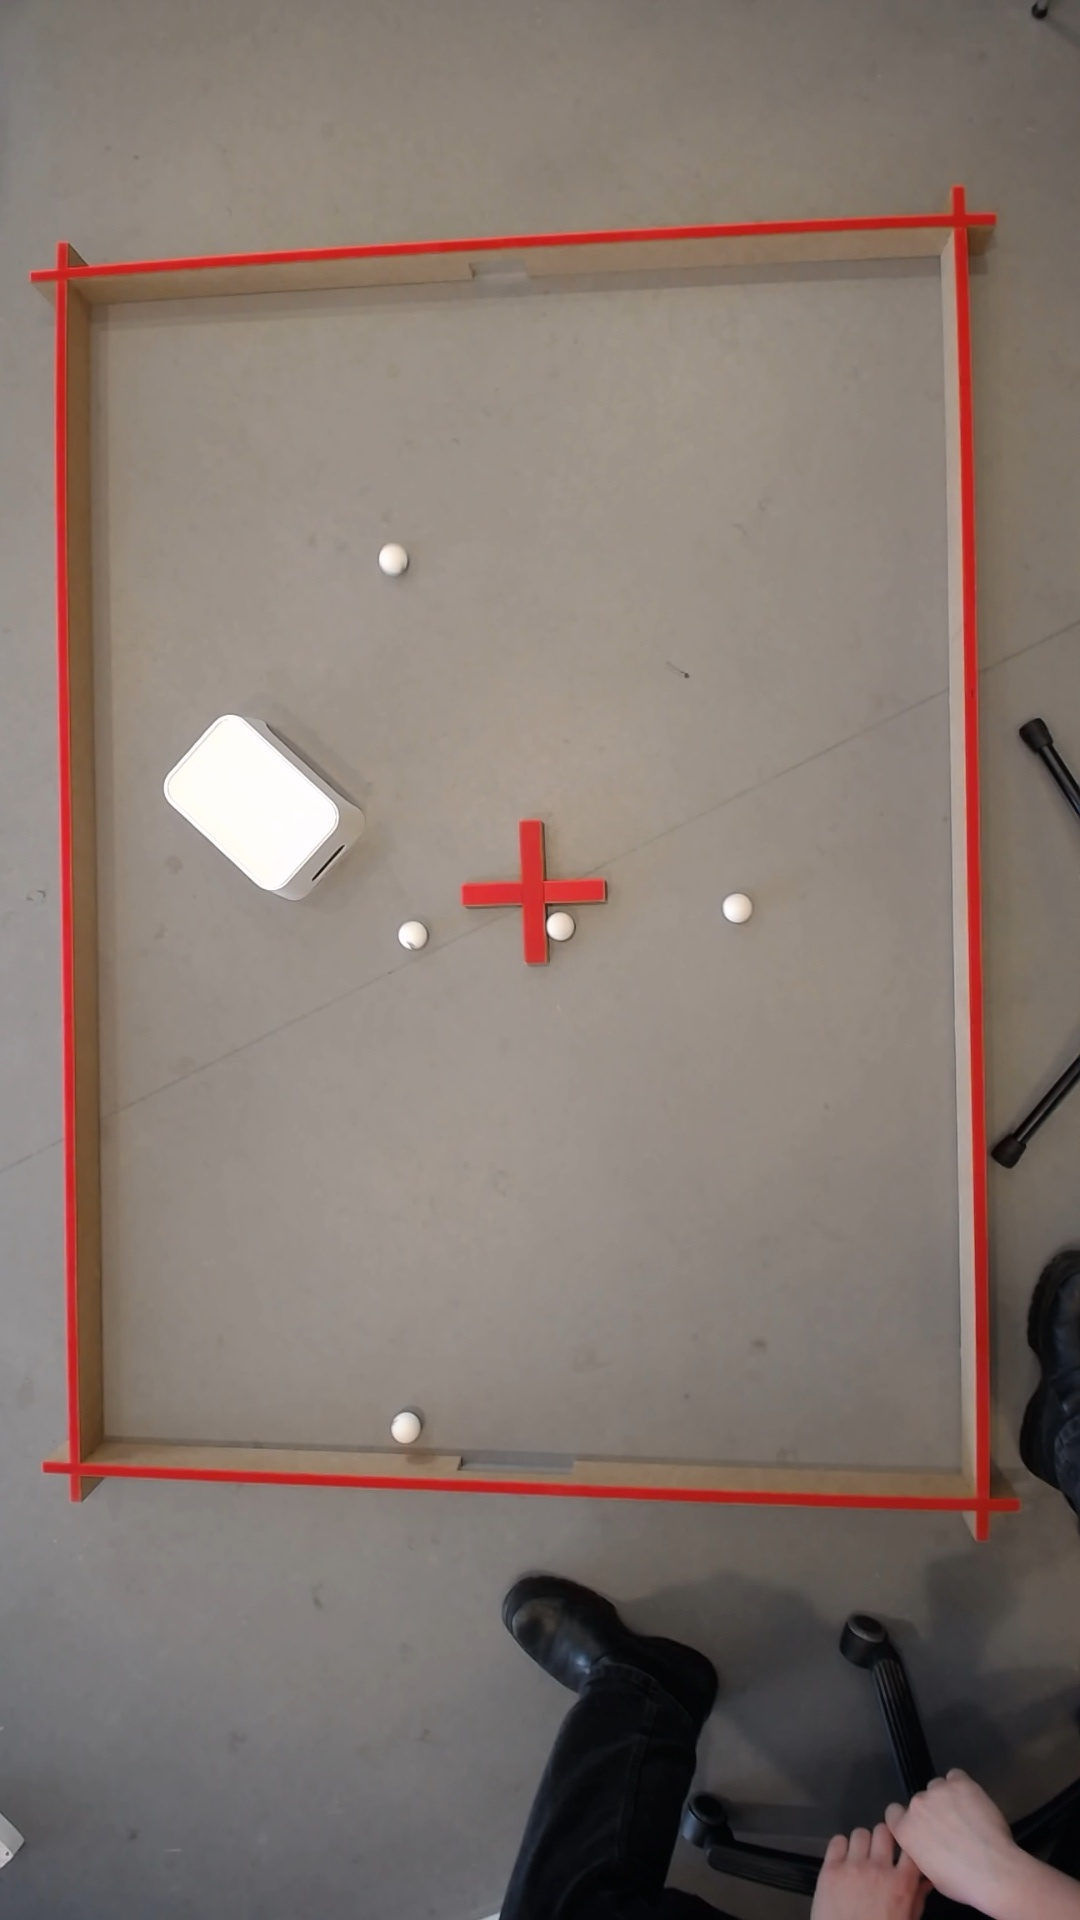balls: (150, 703, 348, 899), (372, 541, 404, 574), (393, 918, 425, 949), (717, 891, 748, 923), (388, 1408, 415, 1443)
car: (541, 910, 568, 939)
